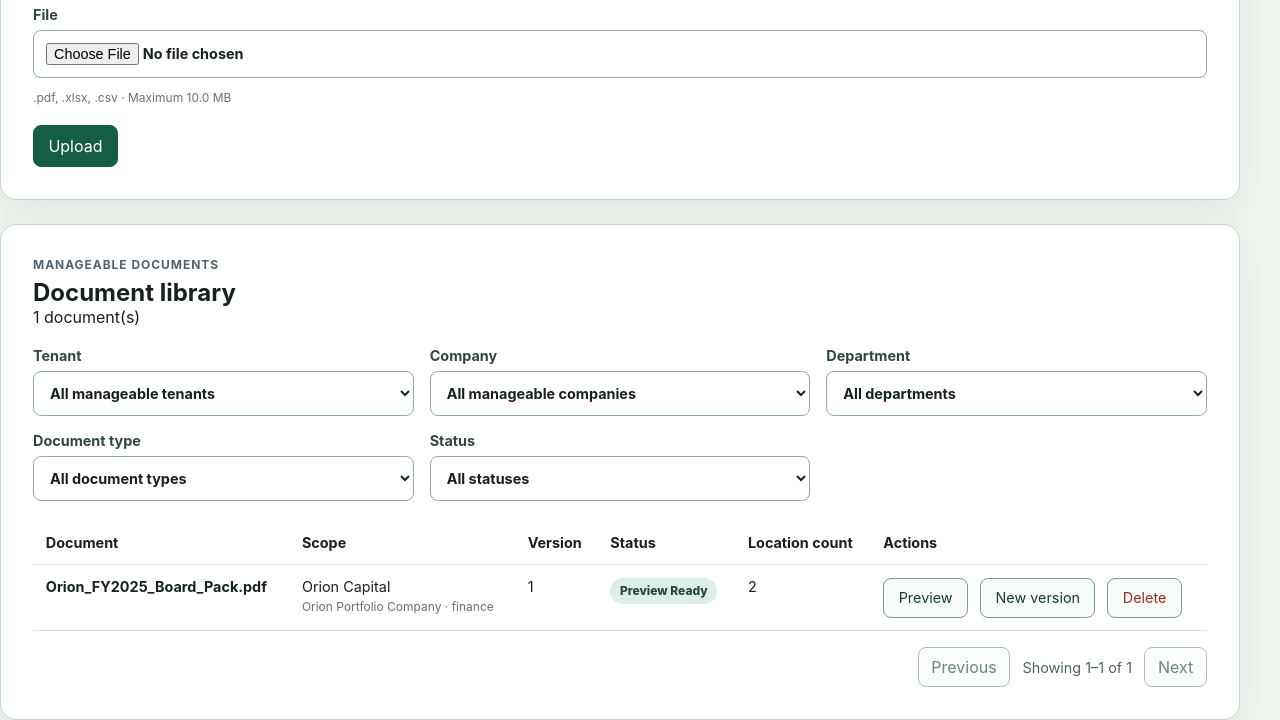
Test: DocumentIngestionPage › supports rejection, reports decision failures, and hides decisions outside preview-ready
(page scrolled)
Expected: the heading "Document library" is shown, [33, 278, 236, 307]
Click the button "Preview" at (926, 598), box [883, 578, 968, 618]
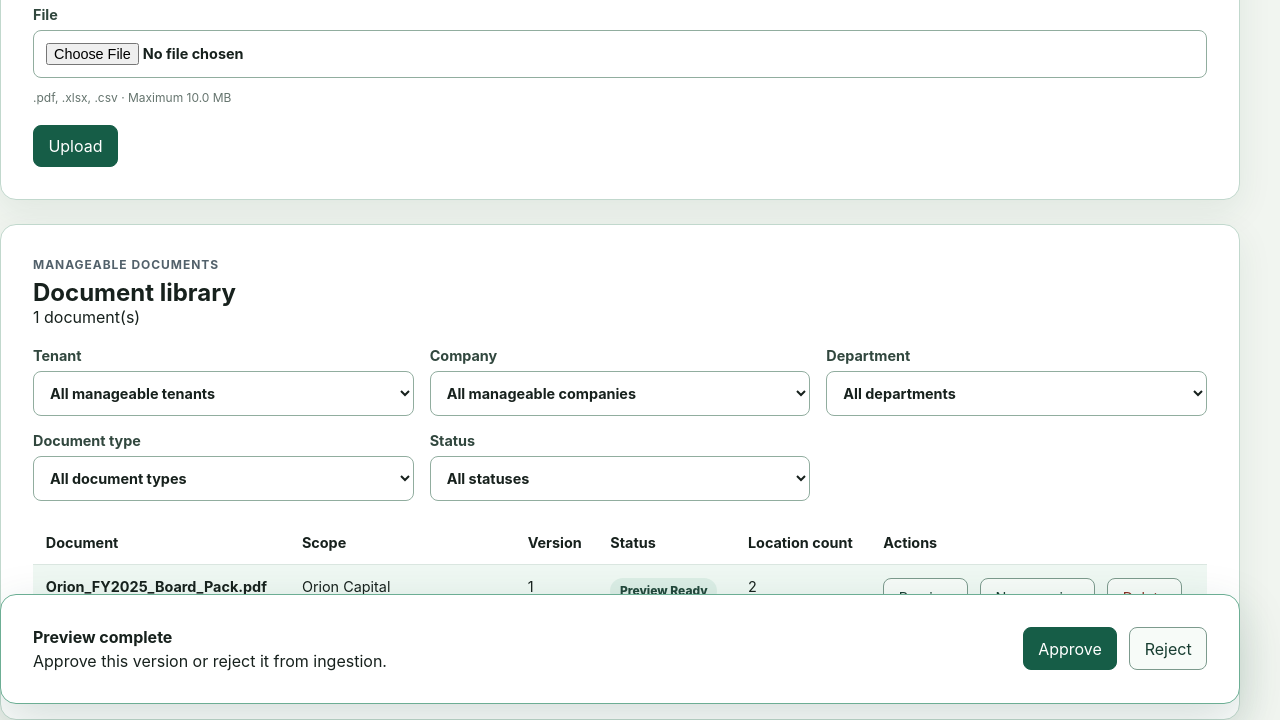
Now the button "Reject" is shown
Click the button "Reject" at (1168, 649), box [1129, 628, 1207, 670]
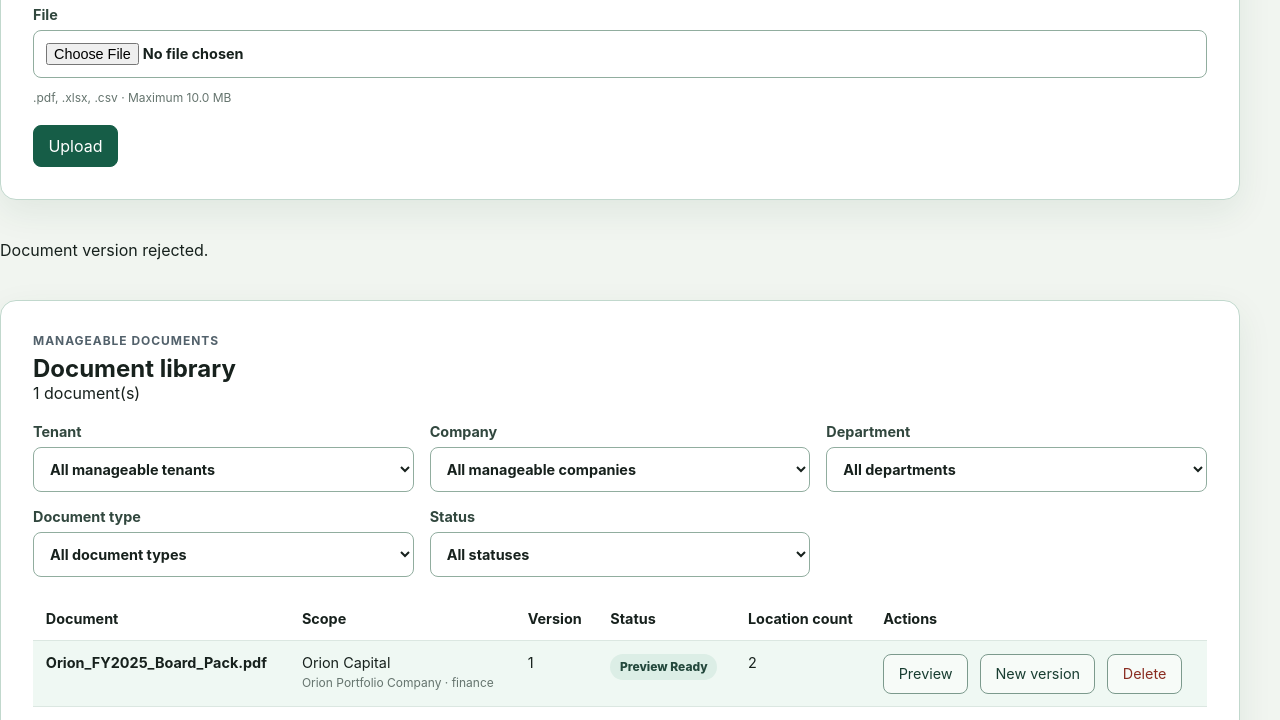
Expected: the button "Approve" is not shown
Click the button "Preview" at (926, 674), box [883, 654, 968, 694]
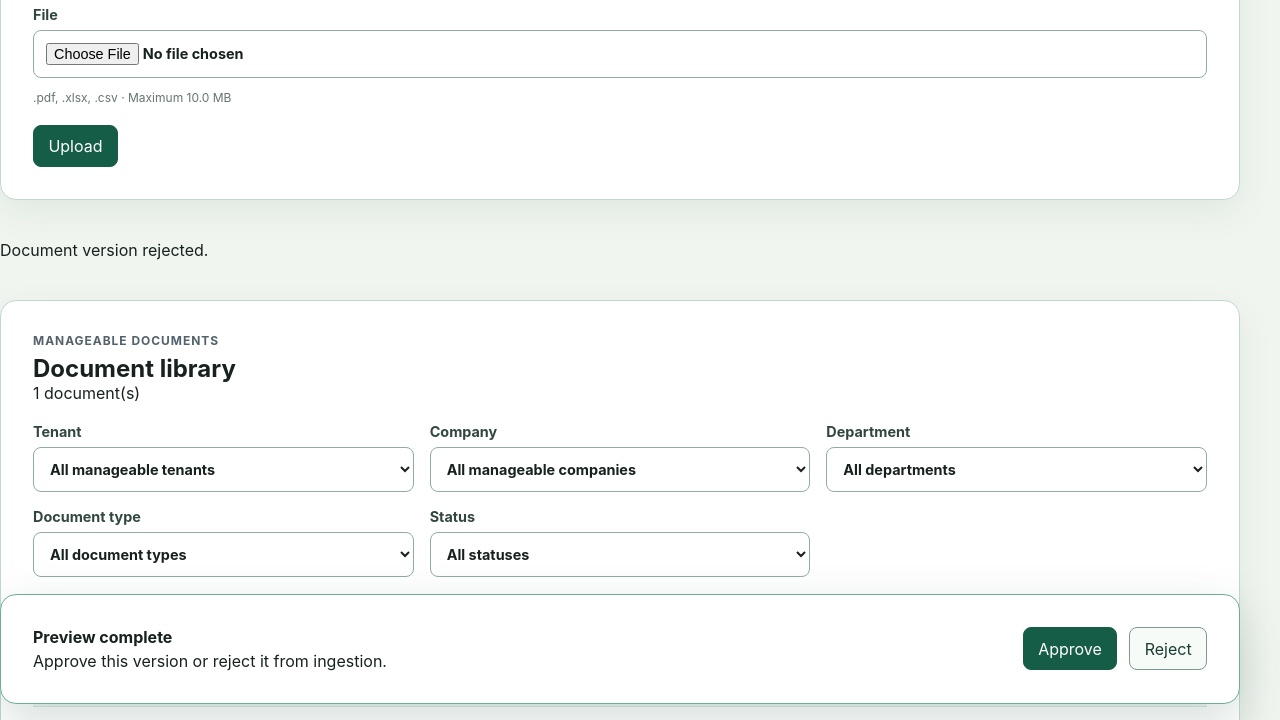
Now the button "Approve" is shown
Click the button "Approve" at (1070, 649), box [1023, 628, 1117, 670]
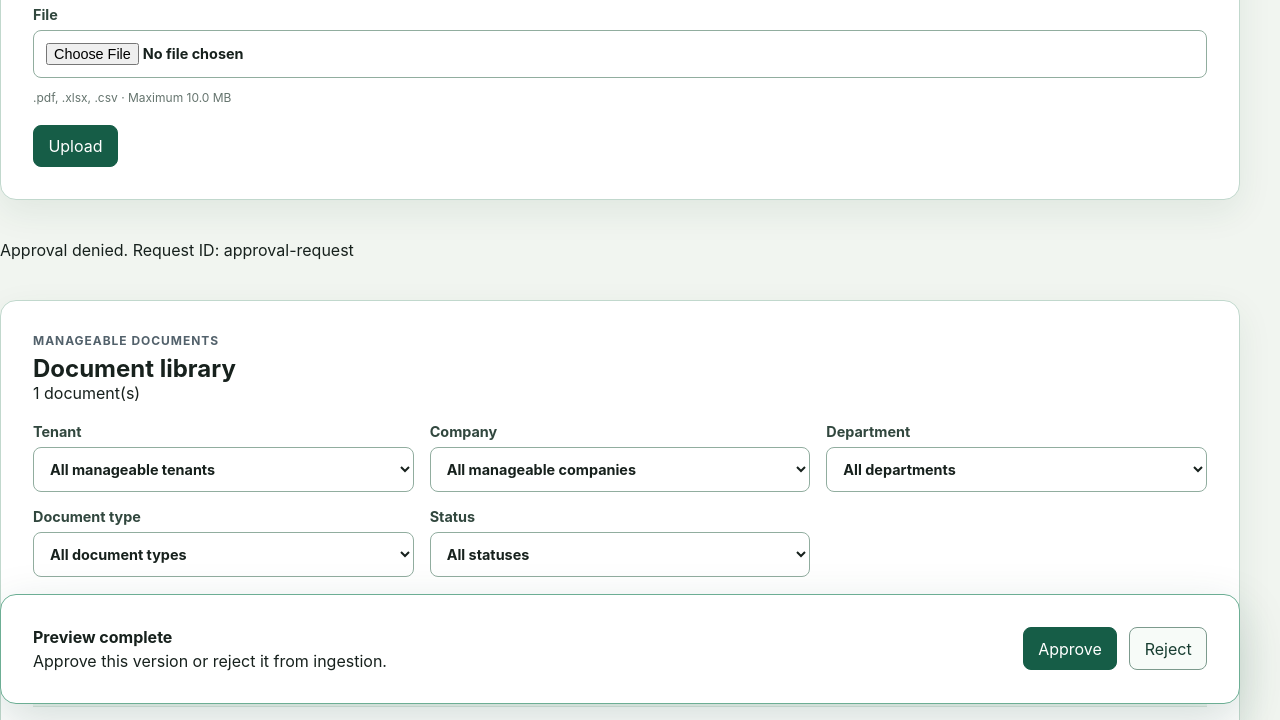
Now the message reads "Approval denied. Request ID: approval-request", box [0, 240, 354, 260]
